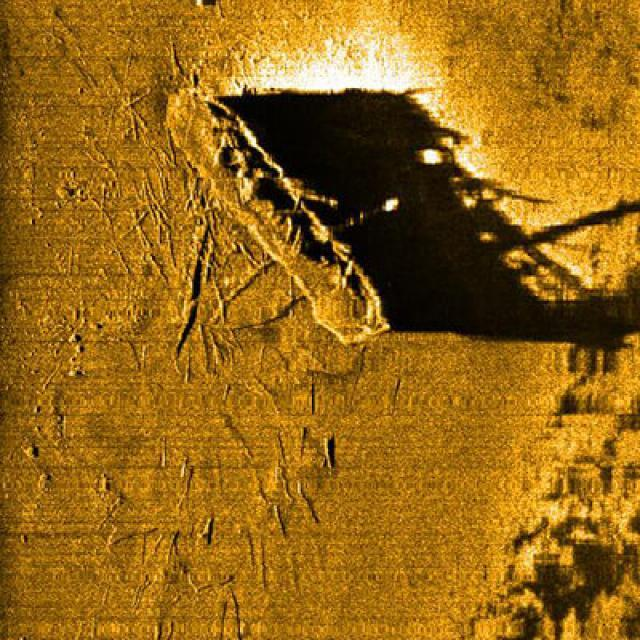shipwreck: (156, 82, 394, 346)
